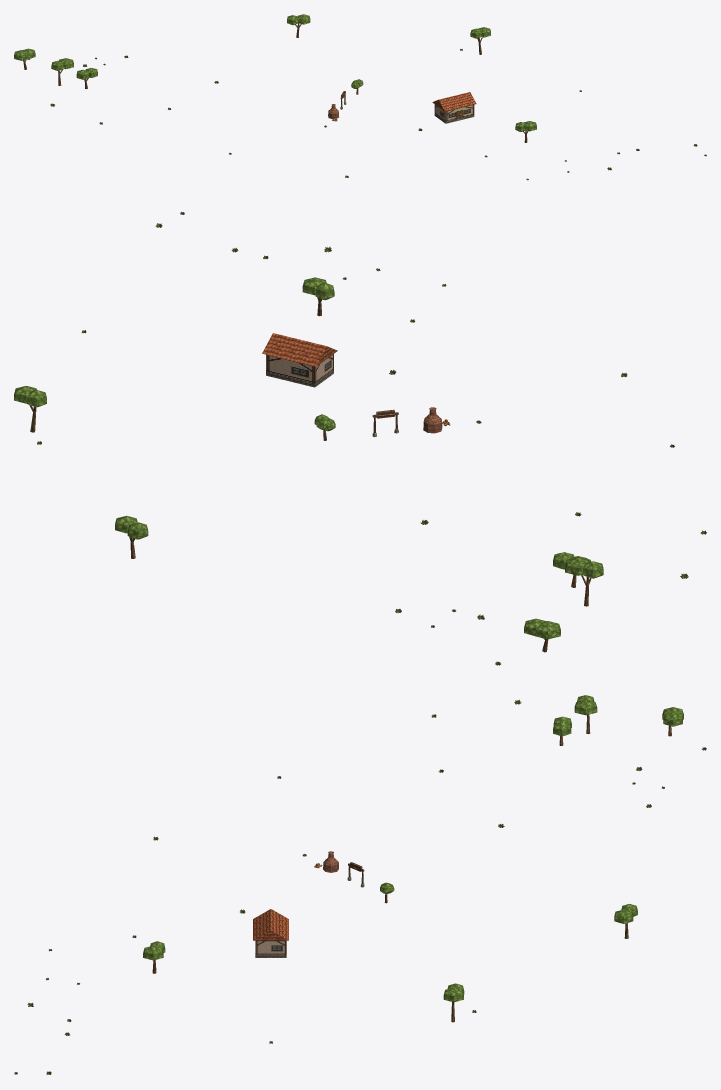
The model's file is FieldCell_4_5.fbx.
3 renders of one model, top to bottom at view 1: azimuth 30°, elevation 25°; view 2: azimuth 150°, elevation 25°; view 3: azimuth 270°, elevation 25°, orthographic. The views are drawn at different scales.
Parts seen in each view (by area): view 1: FieldCell_4_5; view 2: FieldCell_4_5; view 3: FieldCell_4_5.
Boxes of the visible parts, x1,y1,x2,y2 form: FieldCell_4_5: (14,14,536,142); FieldCell_4_5: (14,277,603,652); FieldCell_4_5: (143,695,683,1022).
Size of the model in its own units: 15447 by 1667 by 13832.
